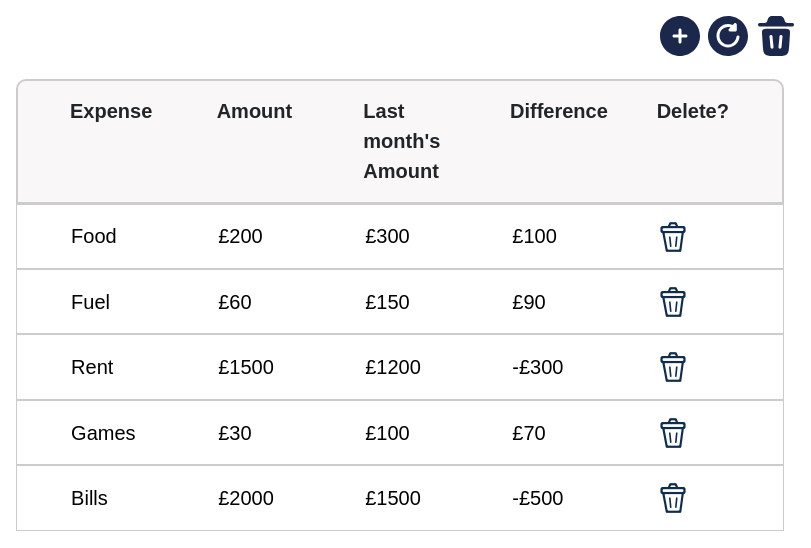
Test: Delete single row
Click the 1st picture with test id "delete-row" at (673, 237), box [657,221,689,253]
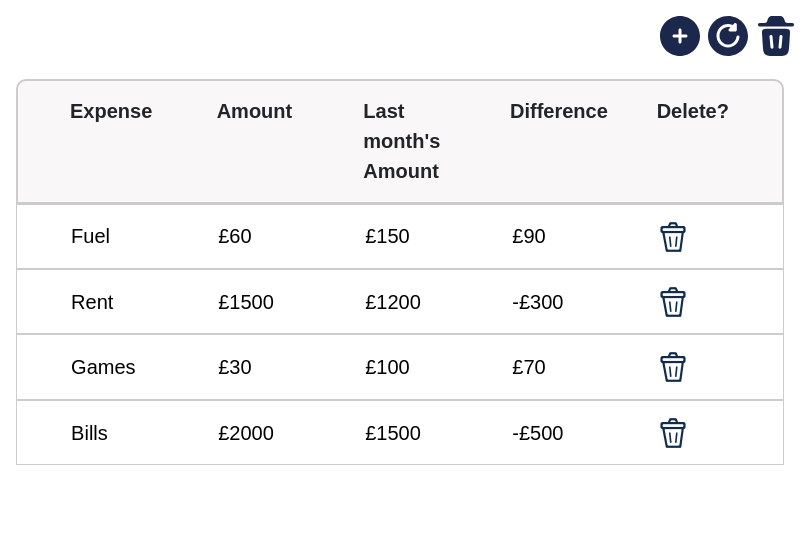
Expected: the number of elements with test id "expense-row" is 4, [16,204,784,269]; [16,269,784,334]; [16,334,784,400]; [16,400,784,465]
